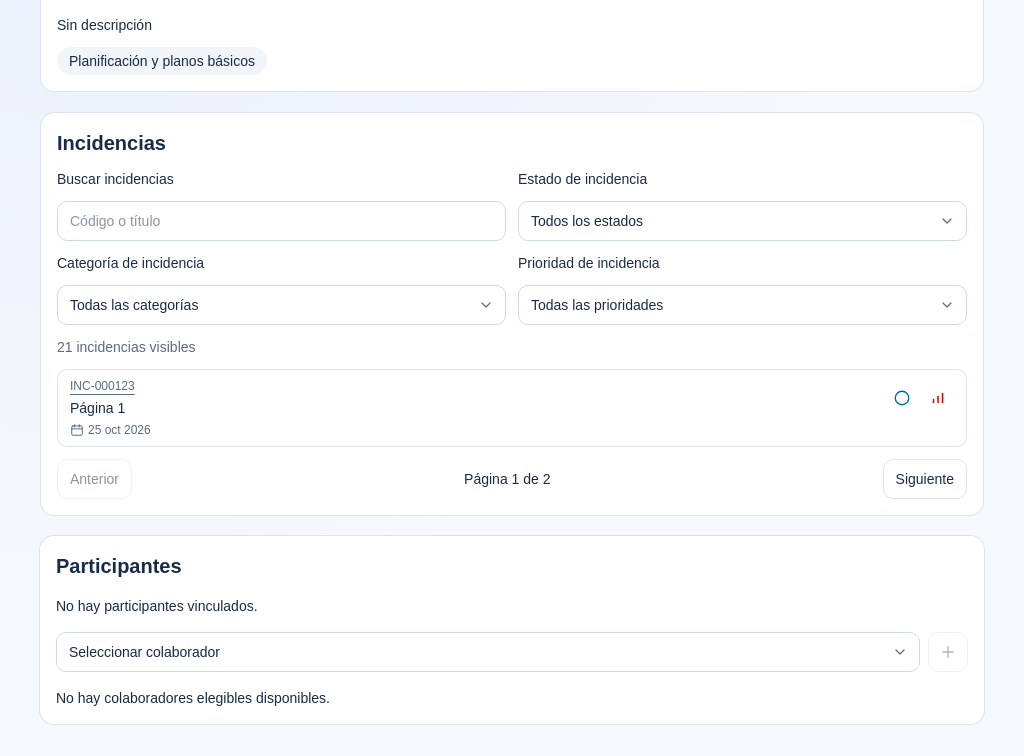
Test: requests every page from the server with the fixed promotion scope
(page scrolled)
Expected: the text "Página 1" is shown, [70, 400, 125, 416]
Click the button with aria-label "Siguiente página de incidencias" at coordinates (925, 479), box [883, 459, 967, 499]
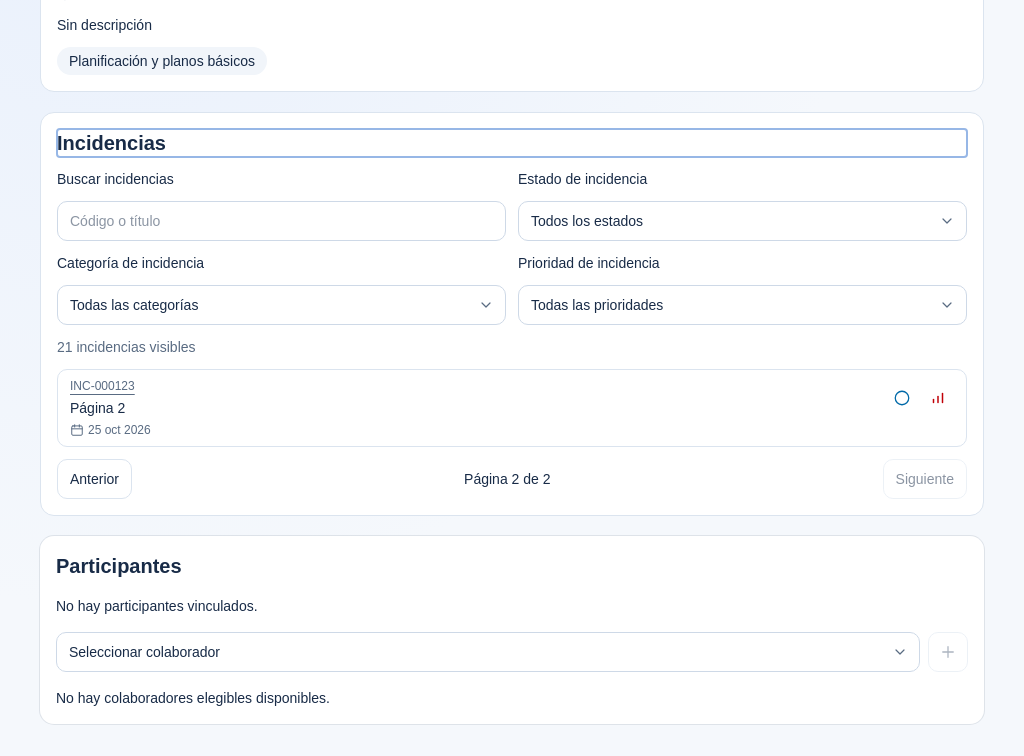
Expected: the text "Página 2" is shown, [70, 400, 125, 416]
Expected: the button with aria-label "Siguiente página de incidencias" is disabled, [883, 459, 967, 499]
Click the button with aria-label "Anterior página de incidencias" at coordinates (94, 479), box [57, 459, 132, 499]
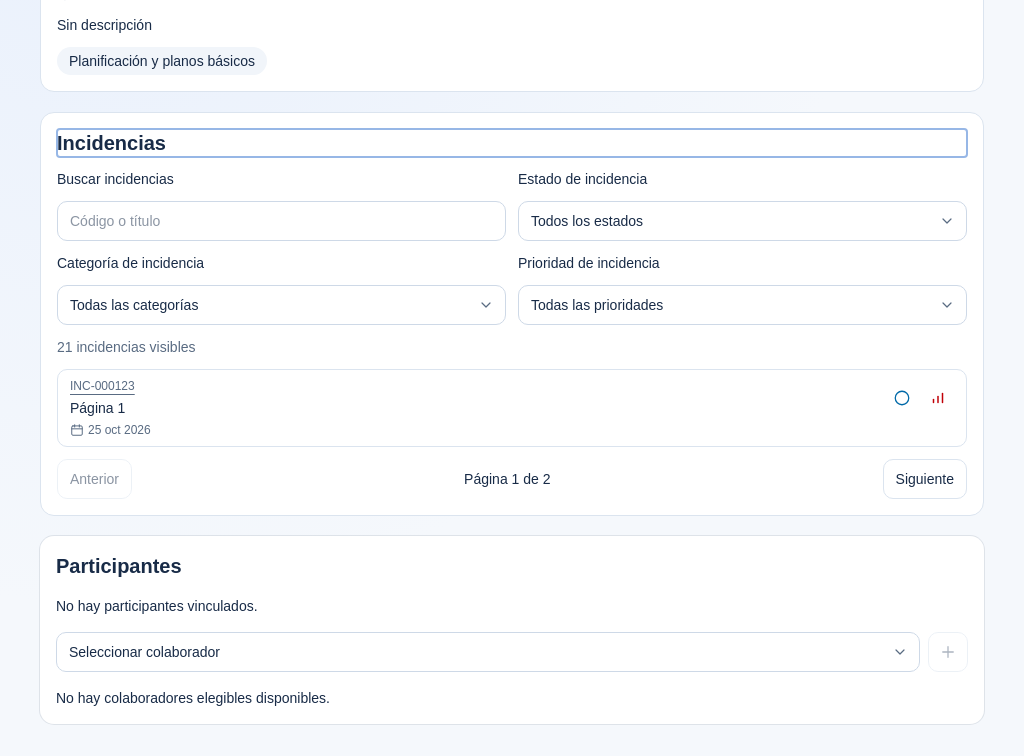
Expected: the text "Página 1" is shown, [70, 400, 125, 416]
